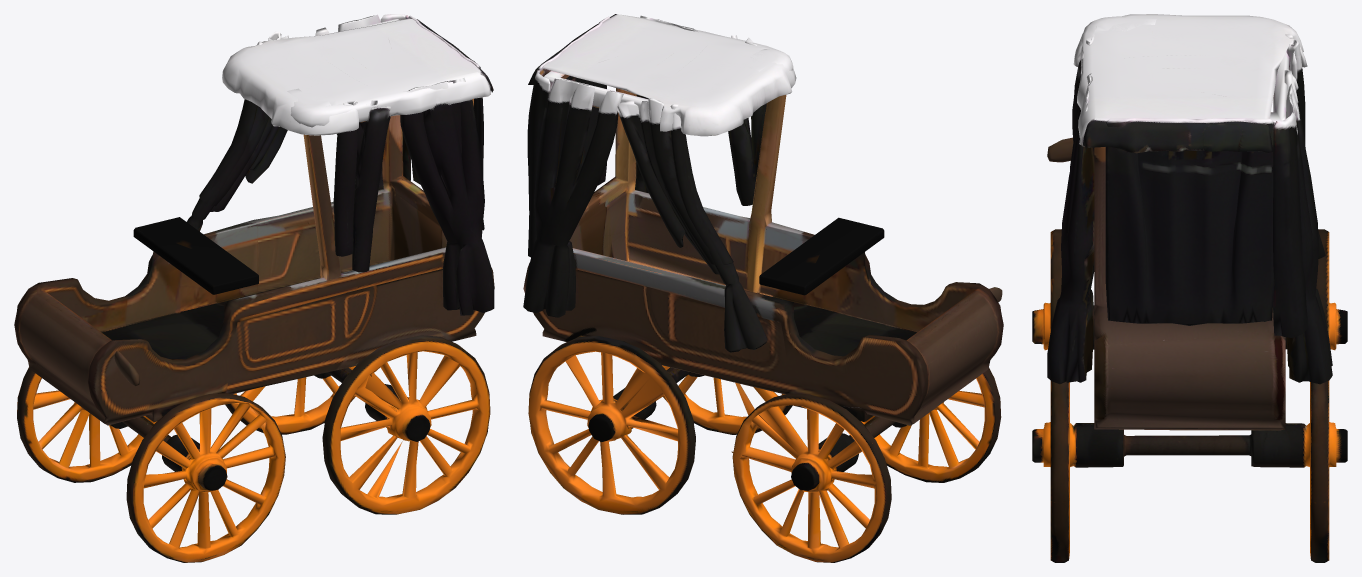
The model's file is board_hearse_cart.glb.
3 views of the same model, side by side, from view 1: azimuth 30°, elevation 25°; view 2: azimuth 150°, elevation 25°; view 3: azimuth 270°, elevation 25° (orthographic). The views are drawn at different scales.
Bounding box in the file's own units: 1.91 × 1.86 × 1.08.
1 material, 1 textured.
